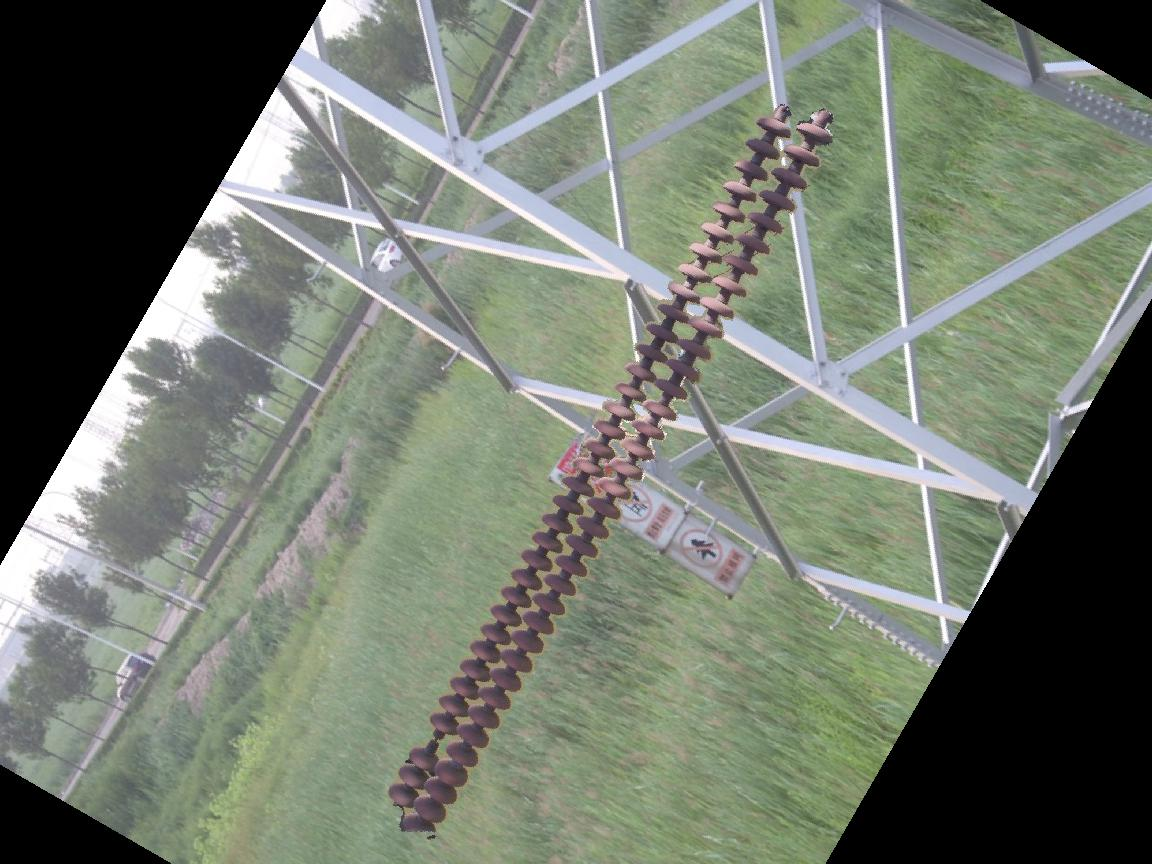insulator: (382, 112, 840, 837)
insulator_stringdrop: (405, 711, 463, 773)
